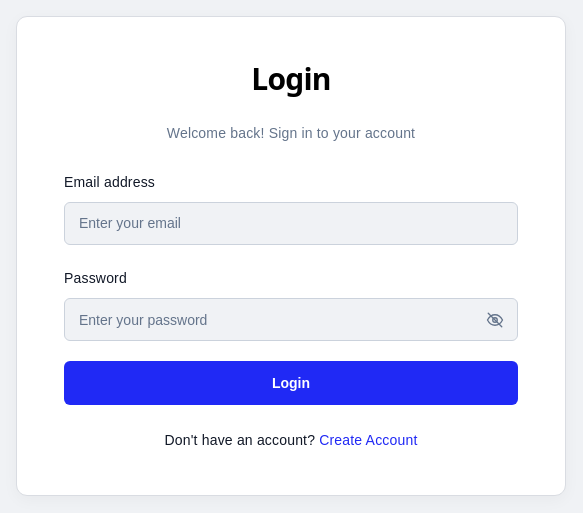
it: Login component › shows the password when the Show button is clicked
This screenshot has width=583, height=513.
Type "Password123!" into the password field labelled "Password".
click(291, 320); type("Password123!")  # box [64,298,518,341]
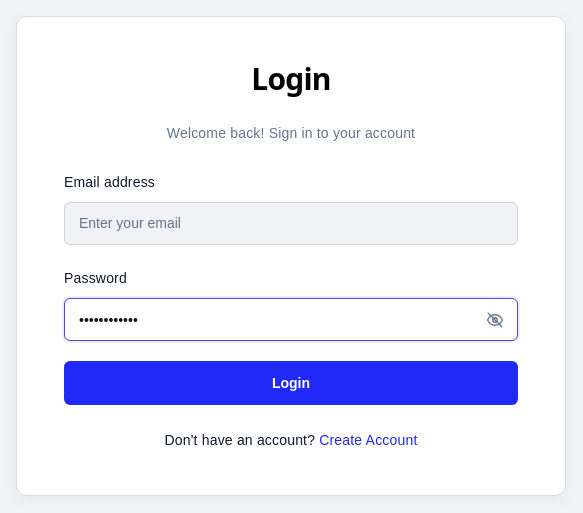
Click the button named "Show password".
click(495, 320)  # box [479,304,511,336]
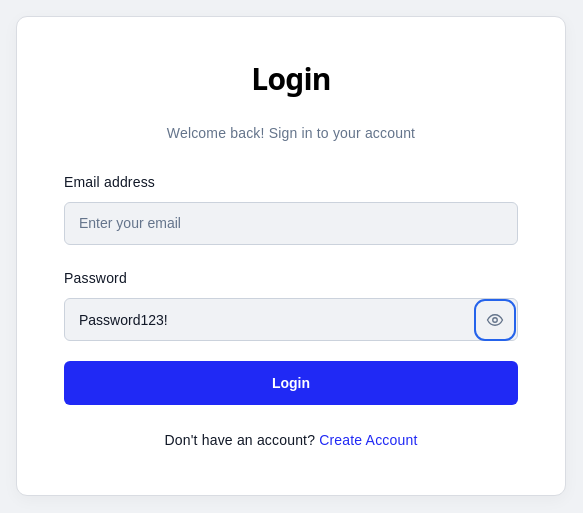
Now the field labelled "Password" shows its text, box [64,298,518,341]
